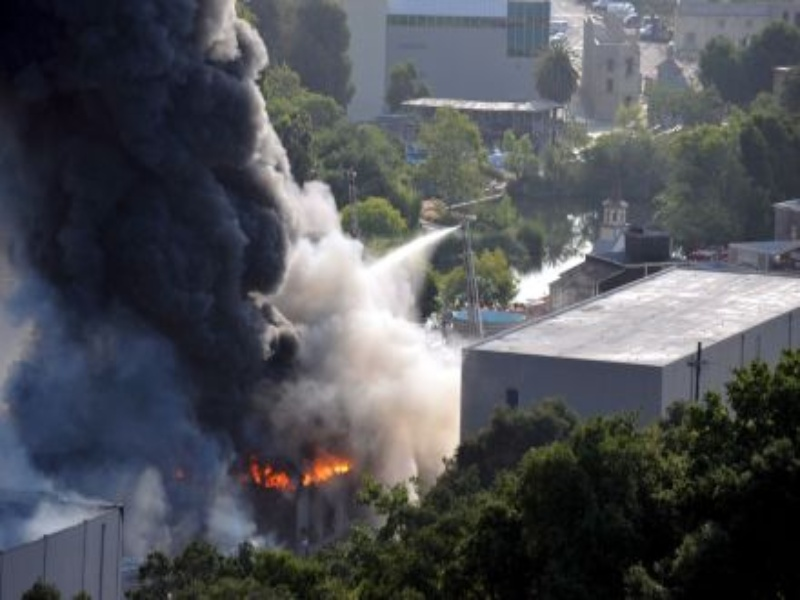smoke: (1, 4, 274, 456)
